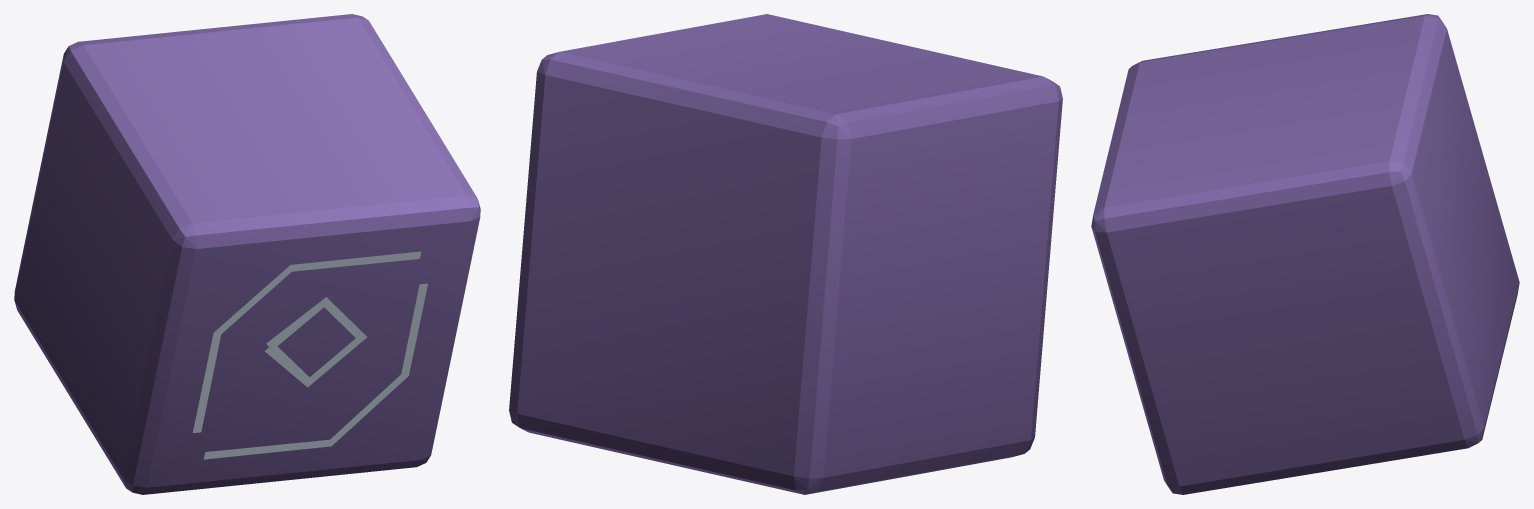
The model's file is 2065_RockScissorsPaper_ShellBlock.fbx.
The picture shows the model from 3 angles, left to right: view 1: azimuth 30°, elevation 25°; view 2: azimuth 150°, elevation 25°; view 3: azimuth 270°, elevation 25°; orthographic projection. The views are drawn at different scales.
Parts seen in each view (by area): view 1: PART_HypostasisBevelledShell, PART_ShellAngularInlay_0, PART_ShellAngularInlay_1, PART_ShellAngularInlay_2; view 2: PART_HypostasisBevelledShell; view 3: PART_HypostasisBevelledShell.
Part boxes in pixels (bbox=[...]): PART_HypostasisBevelledShell: bbox=[14, 14, 480, 494]; PART_ShellAngularInlay_0: bbox=[192, 251, 421, 432]; PART_ShellAngularInlay_1: bbox=[203, 283, 427, 459]; PART_ShellAngularInlay_2: bbox=[264, 297, 367, 387]; PART_HypostasisBevelledShell: bbox=[509, 14, 1062, 494]; PART_HypostasisBevelledShell: bbox=[1091, 14, 1519, 494].
Bounding box in the file's own units: 115 × 125 × 129.
